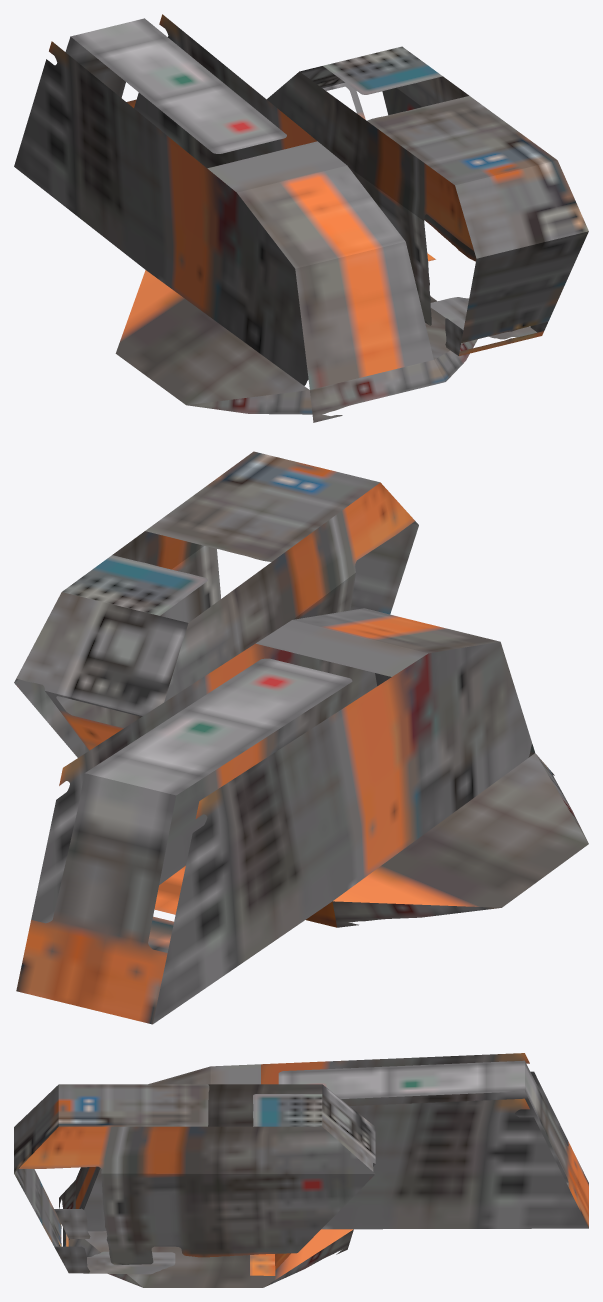
File: LOD1-UVFlip.obj
3 renders of one model, top to bottom at view 1: azimuth 30°, elevation 25°; view 2: azimuth 150°, elevation 25°; view 3: azimuth 270°, elevation 25°, orthographic. The views are drawn at different scales.
Visible parts, largest first — view 1: PulsarGunUV; view 2: PulsarGunUV; view 3: PulsarGunUV.
Part boxes in pixels (<box>): PulsarGunUV: <box>14,14,588,422</box>; PulsarGunUV: <box>14,451,588,1024</box>; PulsarGunUV: <box>14,1053,588,1287</box>.
Size of the model in its own units: 7.26 by 4.29 by 12.98.
